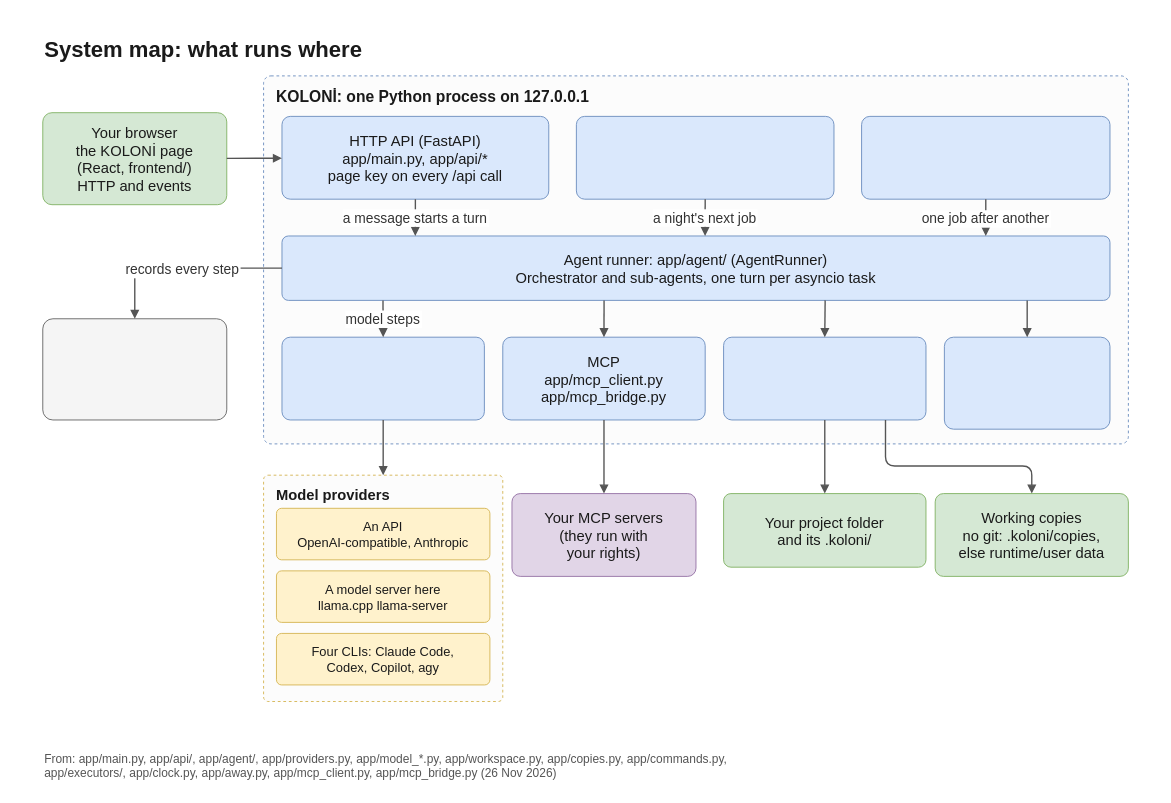
This 1171x803 diagram has some shape labels left out. The box of each missing label's shape, as (x1, y1, x2, y2) in pixels:
Commands app/commands.py executors/: here or in Docker: (943, 336, 1110, 429)
Files and copies app/workspace.py app/copies.py: (723, 336, 926, 420)
Model clients app/providers.py app/model_*.py: (281, 336, 484, 420)
SQLite database runtime/data chats, agents, memory, settings, keys: (42, 318, 227, 420)
The clock app/clock.py nights, the day's summary: (575, 115, 834, 199)
While away app/away.py jobs while you are away: (861, 115, 1110, 199)
